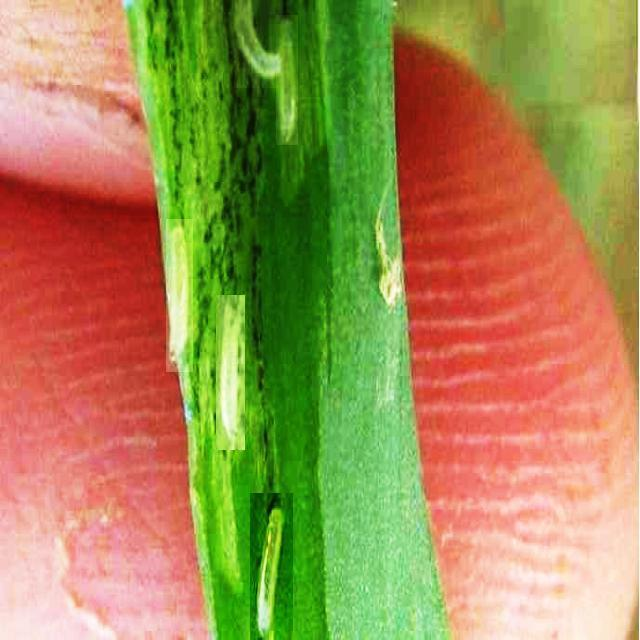whorl-maggot: (250, 493, 293, 640), (216, 295, 245, 450), (234, 0, 283, 88), (166, 219, 193, 372), (276, 15, 298, 145)
